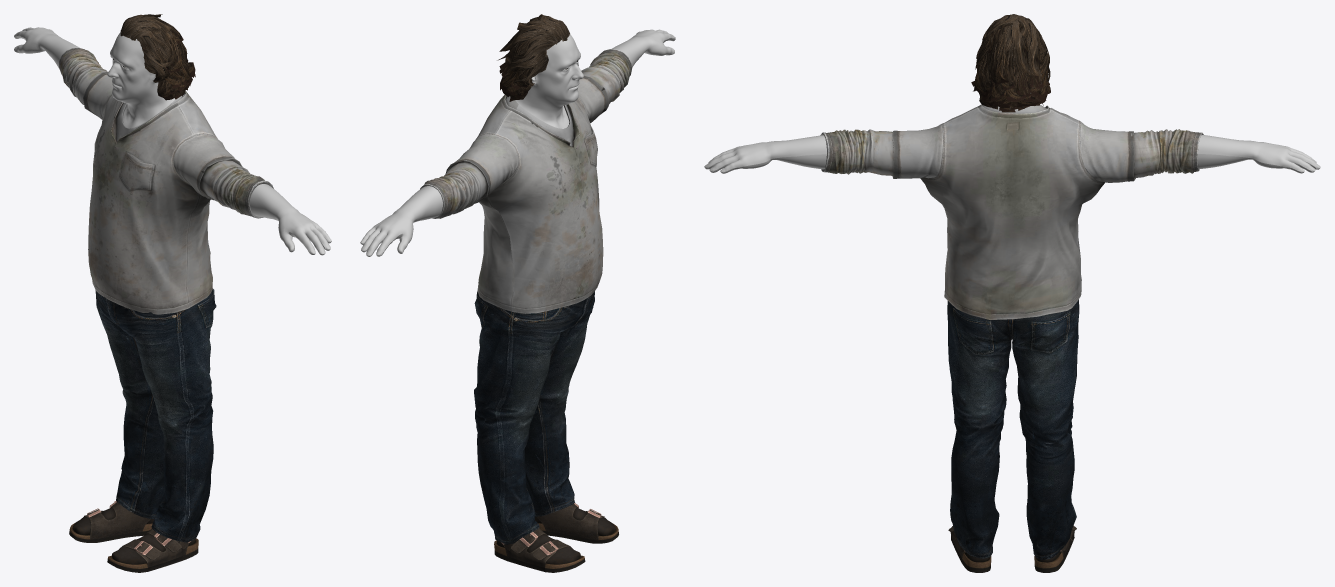
The model's file is FatMan.fbx.
3 renders of one model, left to right at view 1: azimuth 30°, elevation 25°; view 2: azimuth 150°, elevation 25°; view 3: azimuth 270°, elevation 25°, orthographic. The views are drawn at different scales.
Visible parts, largest first — view 1: O_Modelshirt_Material007, O_Modeljeans_Material005, O_Modelshoes_Material008, O_Modelarms_Material001, O_Modelhair_Material009, O_Modelfuckface_Material004; view 2: O_Modelshirt_Material007, O_Modeljeans_Material005, O_Modelshoes_Material008, O_Modelarms_Material001, O_Modelfuckface_Material004, O_Modelhair_Material009; view 3: O_Modelshirt_Material007, O_Modeljeans_Material005, O_Modelhair_Material009, O_Modelarms_Material001, O_Modelshoes_Material008.
Boxes of the visible parts, x1,y1,x2,y2 form: O_Modelshirt_Material007: [59, 48, 273, 314]; O_Modeljeans_Material005: [95, 288, 216, 542]; O_Modelshoes_Material008: [69, 501, 198, 572]; O_Modelarms_Material001: [14, 27, 331, 255]; O_Modelhair_Material009: [120, 14, 195, 100]; O_Modelfuckface_Material004: [107, 32, 175, 128]; O_Modelshirt_Material007: [420, 49, 632, 313]; O_Modeljeans_Material005: [474, 291, 594, 544]; O_Modelshoes_Material008: [494, 503, 618, 572]; O_Modelarms_Material001: [360, 29, 675, 256]; O_Modelfuckface_Material004: [515, 34, 583, 128]; O_Modelhair_Material009: [497, 14, 569, 101]; O_Modelshirt_Material007: [820, 104, 1203, 319]; O_Modeljeans_Material005: [947, 299, 1079, 560]; O_Modelhair_Material009: [971, 14, 1050, 112]; O_Modelarms_Material001: [704, 135, 1320, 173]; O_Modelshoes_Material008: [948, 525, 1076, 572].
Bounding box in the file's own units: 55.78 × 252 × 261.
